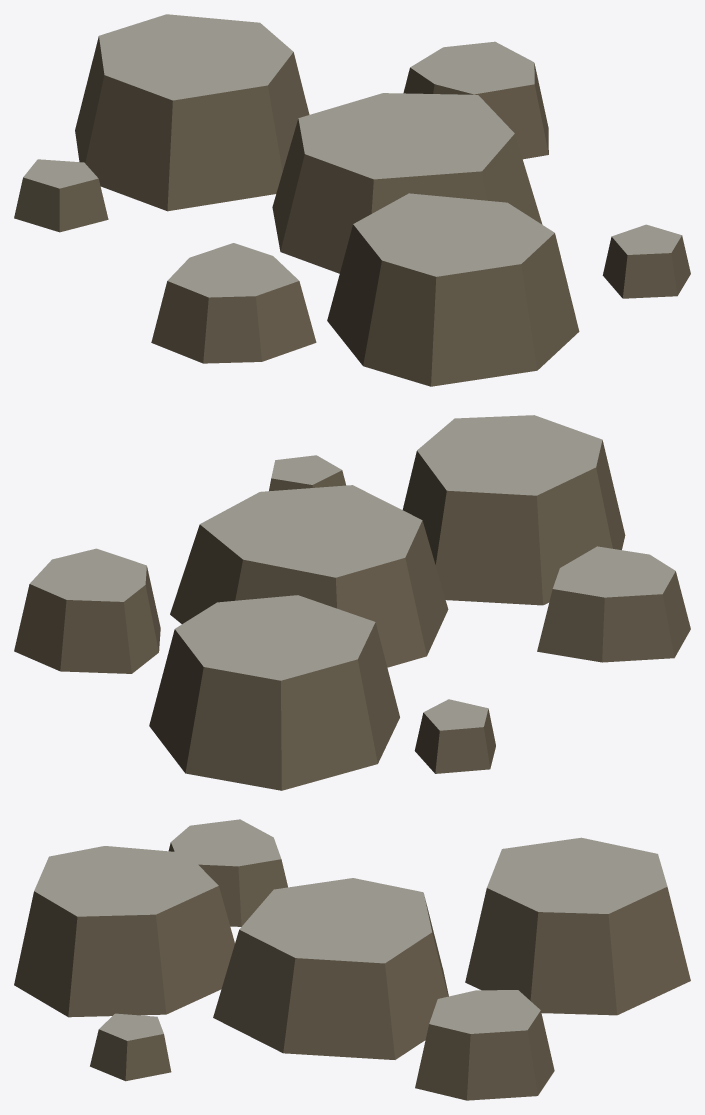
Rendered from ford-stones.glb.
3 renders of one model, top to bottom at view 1: azimuth 30°, elevation 25°; view 2: azimuth 150°, elevation 25°; view 3: azimuth 270°, elevation 25°, orthographic. The views are drawn at different scales.
Visible parts, largest first — view 1: ford-stones; view 2: ford-stones; view 3: ford-stones.
Boxes of the visible parts, x1,y1,x2,y2 form: ford-stones: (14,14,690,386); ford-stones: (14,415,690,790); ford-stones: (14,819,690,1100).
Size of the model in its own units: 1.63 by 0.3 by 2.
Materials: 1 (1 with a texture image).
